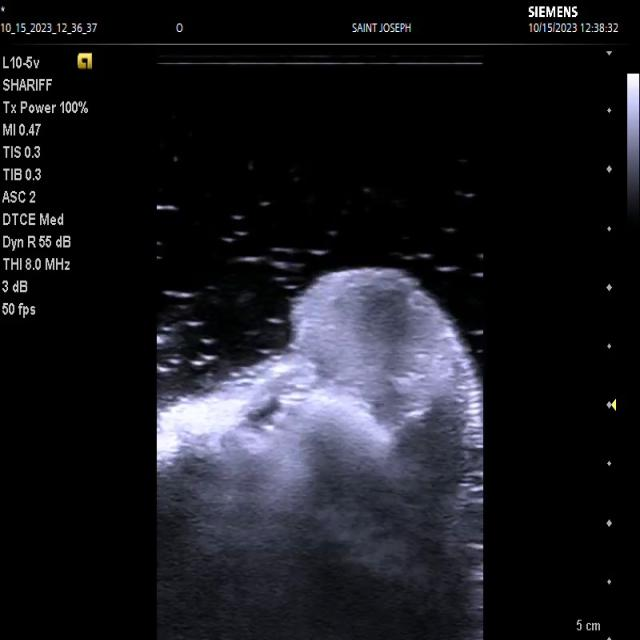tissue: (158, 268, 483, 640)
